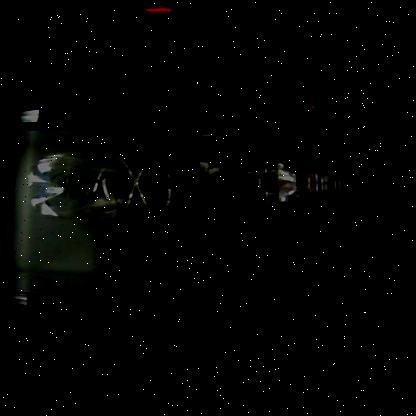Plastic Bottle: (28, 147, 344, 219)
